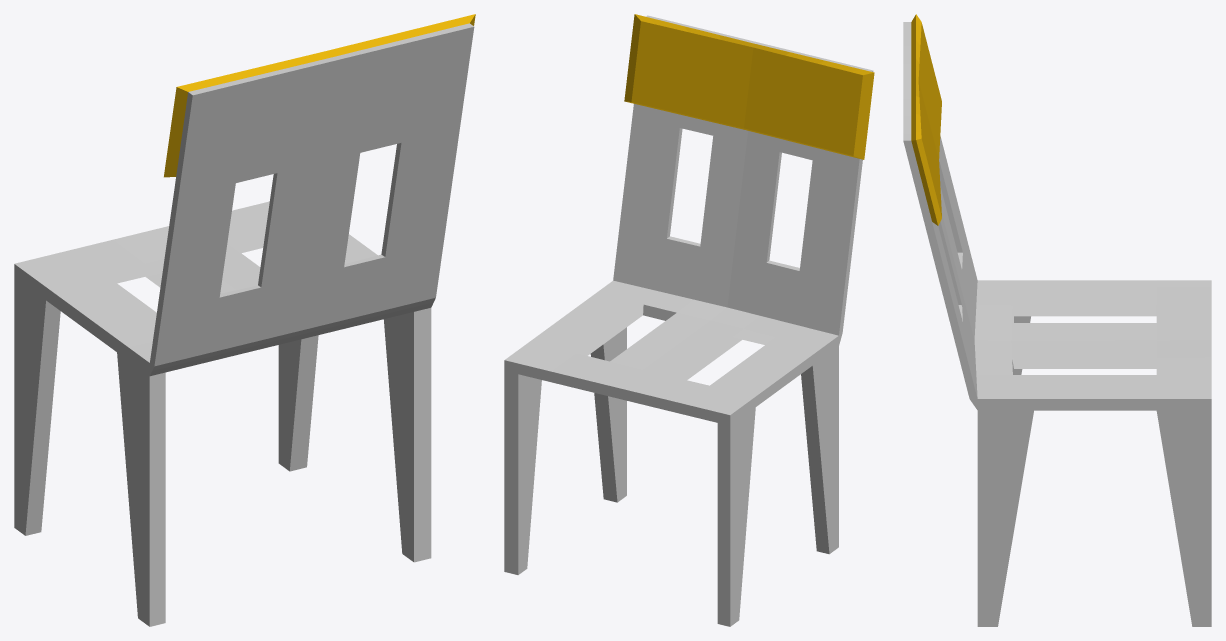
The model's file is Chair.fbx.
3 renders of one model, left to right at view 1: azimuth 30°, elevation 25°; view 2: azimuth 150°, elevation 25°; view 3: azimuth 270°, elevation 25°, orthographic. The views are drawn at different scales.
Visible parts, largest first — view 1: Cube.093; view 2: Cube.093; view 3: Cube.093.
Boxes of the visible parts, x1,y1,x2,y2 form: Cube.093: [14, 14, 475, 626]; Cube.093: [504, 14, 874, 626]; Cube.093: [903, 14, 1211, 626].
Size of the model in its own units: 30.85 by 55.99 by 31.89.
